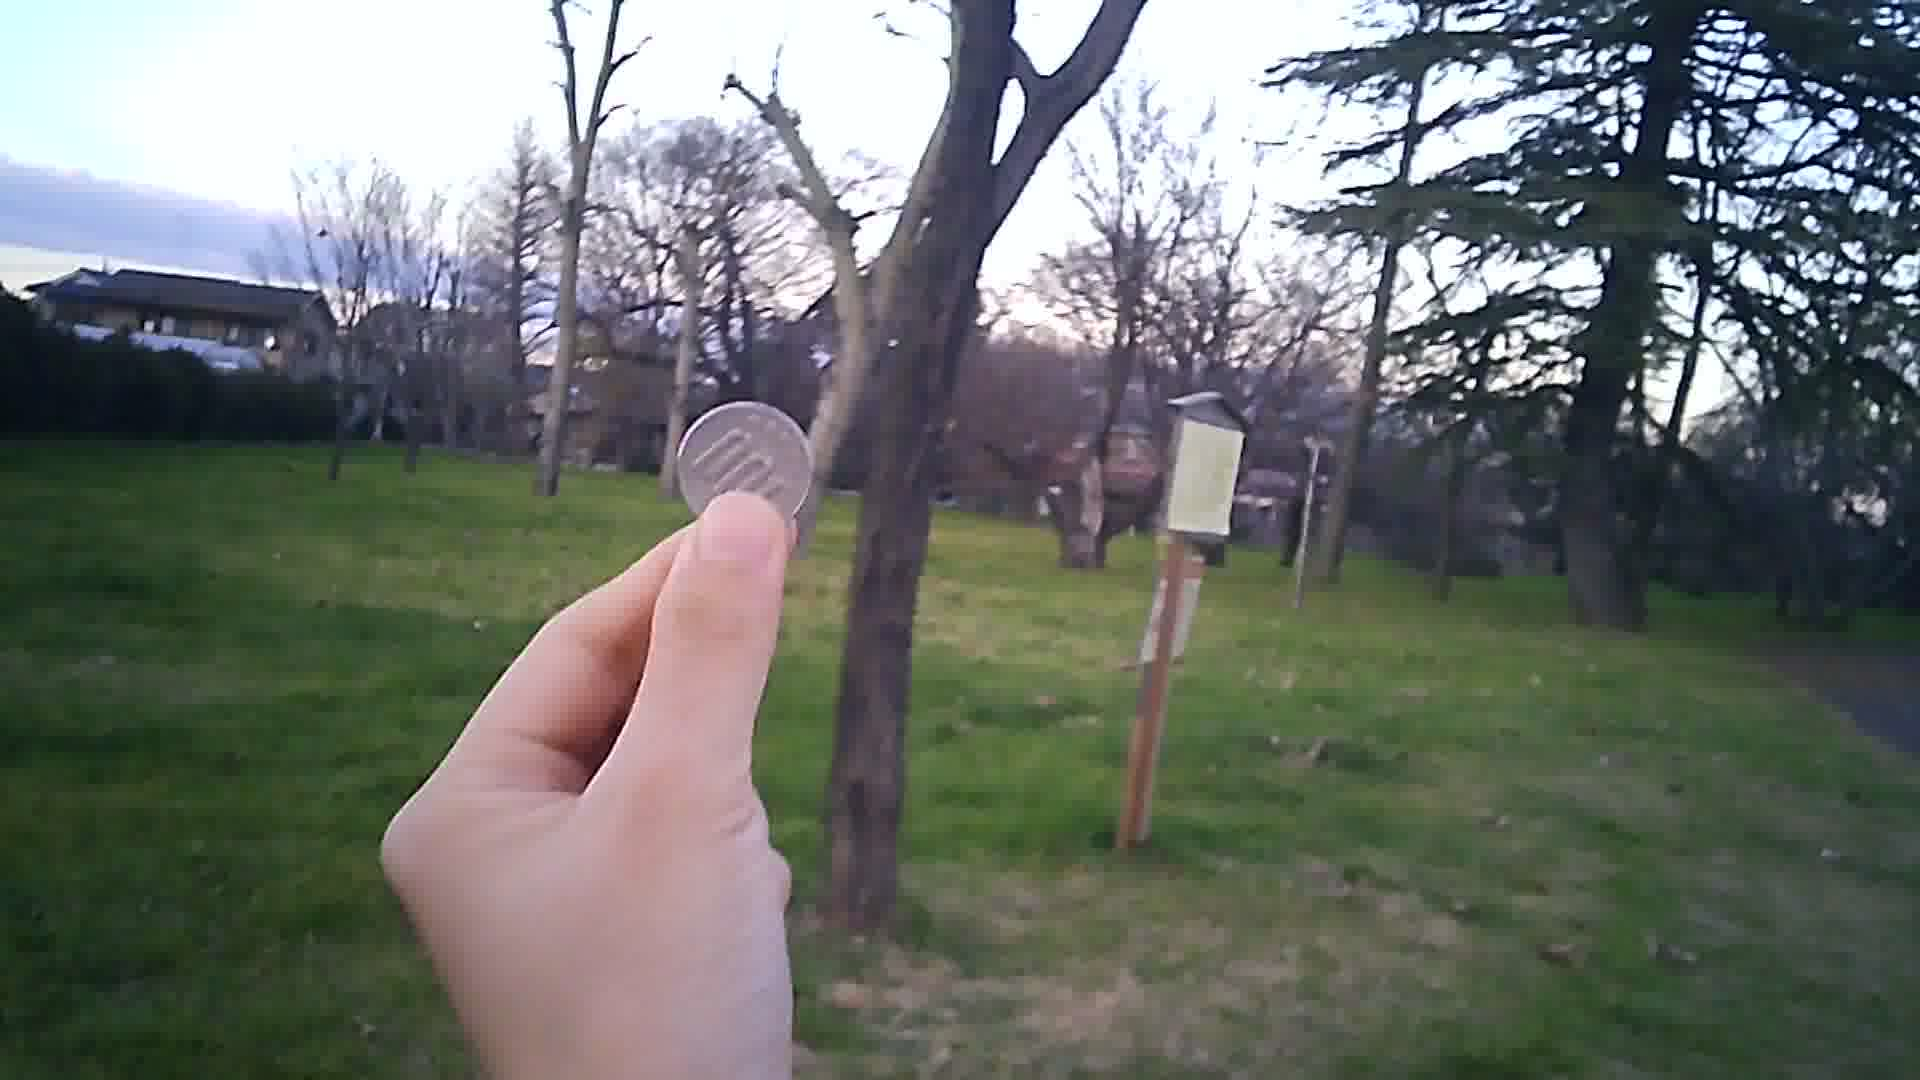100 Yen: (670, 397, 810, 527)
